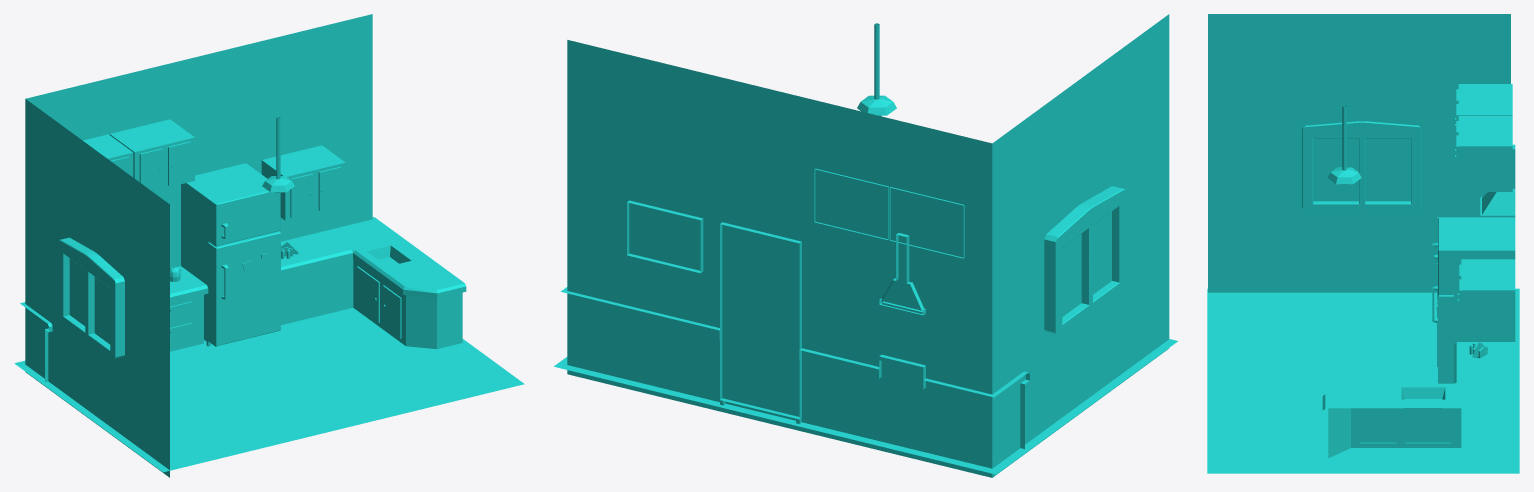
Rendered from Kitchen.fbx.
The picture shows the model from 3 angles, left to right: view 1: azimuth 30°, elevation 25°; view 2: azimuth 150°, elevation 25°; view 3: azimuth 270°, elevation 25°; orthographic projection. The views are drawn at different scales.
Visible parts, largest first — view 1: Kitchen; view 2: Kitchen; view 3: Kitchen.
Part boxes in pixels (<box>): Kitchen: <box>14,14,524,477</box>; Kitchen: <box>554,14,1177,477</box>; Kitchen: <box>1207,14,1519,473</box>.
Size of the model in its own units: 5035 by 3611 by 3569.
